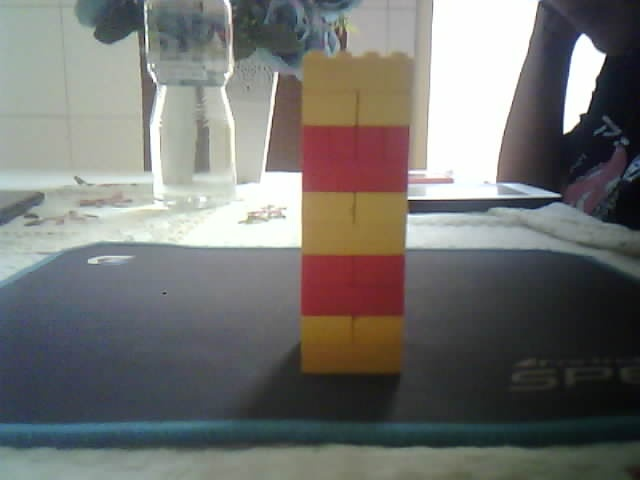lego: (297, 48, 416, 377)
